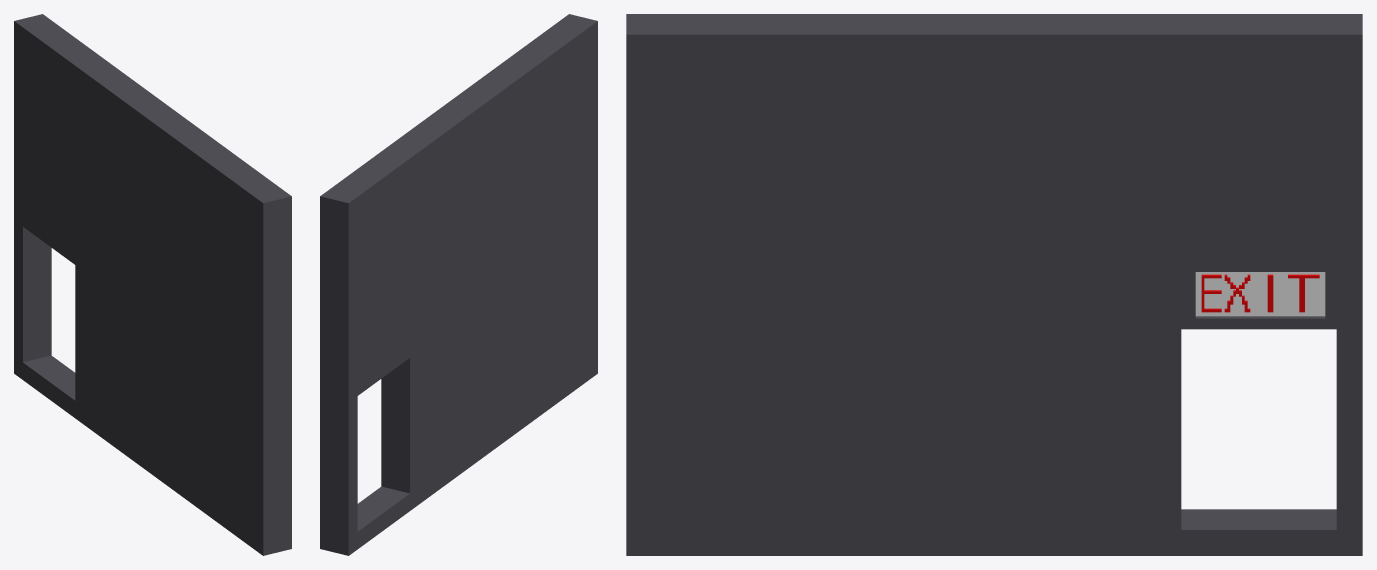
The model's file is Laboratorio-18.obj.
The picture shows the model from 3 angles, left to right: view 1: azimuth 30°, elevation 25°; view 2: azimuth 150°, elevation 25°; view 3: azimuth 270°, elevation 25°; orthographic projection. The views are drawn at different scales.
Bounding box in the file's own units: 1.7 × 20 × 25.6.
1 material, 1 textured.
